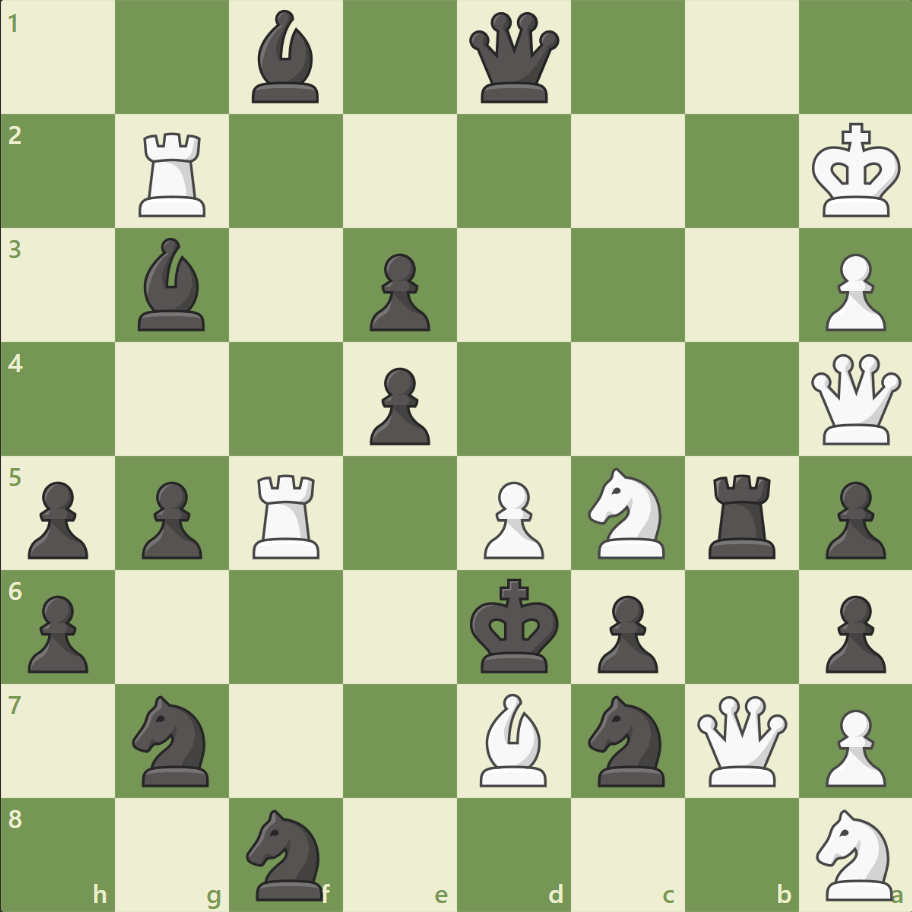B: (471, 687, 555, 790)
K: (806, 117, 906, 225)
N: (579, 461, 676, 564), (806, 802, 903, 904)
P: (474, 473, 549, 564), (815, 700, 889, 791), (815, 246, 889, 337)
Q: (805, 349, 904, 449), (691, 690, 790, 789)
R: (246, 466, 329, 563), (133, 125, 215, 222)
b: (131, 233, 215, 336), (244, 6, 328, 109)
k: (465, 571, 565, 679)
n: (124, 688, 222, 791), (579, 688, 676, 791), (238, 802, 335, 904)
p: (20, 586, 95, 677), (133, 473, 208, 564), (20, 473, 95, 564), (815, 586, 889, 677), (588, 586, 662, 677), (815, 473, 889, 564), (361, 359, 435, 450), (361, 246, 435, 337)
q: (464, 9, 563, 108)
r: (700, 466, 783, 563)
